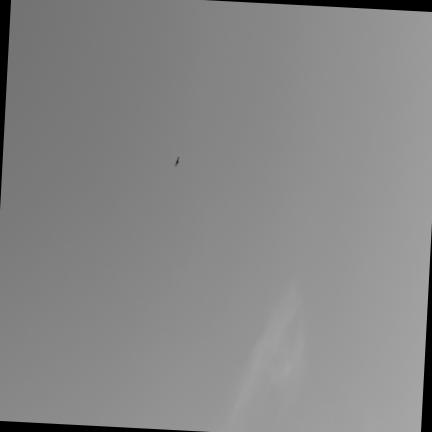Shahed: (175, 157, 179, 165)
